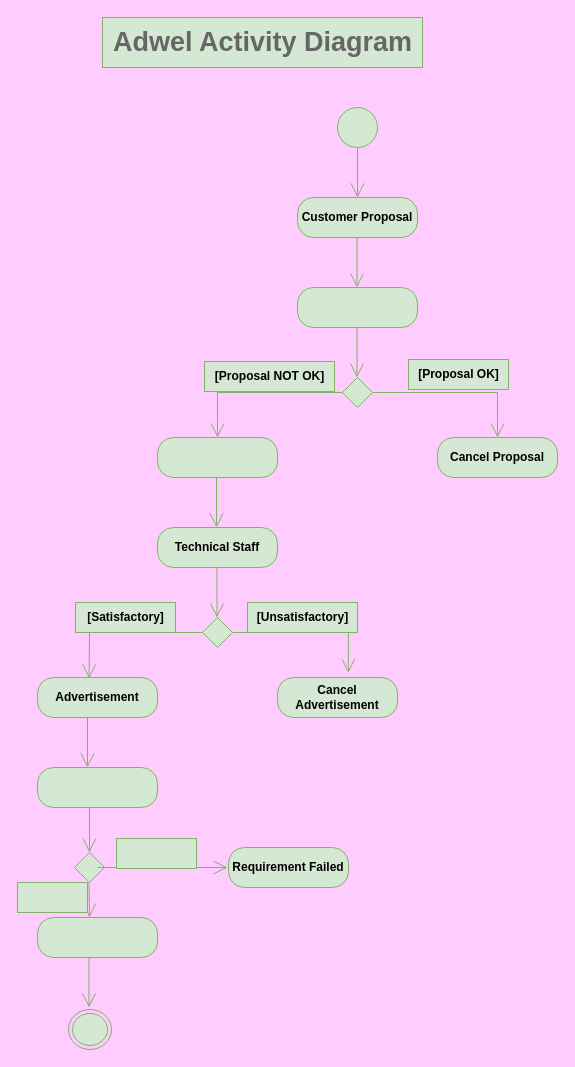
The diagram is 575 pixels wide and 1067 high, and some of its shapes have lost their labels. Here are the shapes that lost their labels. From the top down, the centre of each, then its label:
At point (357, 307): "Administrative Staff".
At point (217, 457): "Campaign Run".
At point (97, 787): "Customer Requirement".
At point (156, 853): "[Unhappy]".
At point (52, 897): "[Happy]".
At point (97, 937): "Payment".
